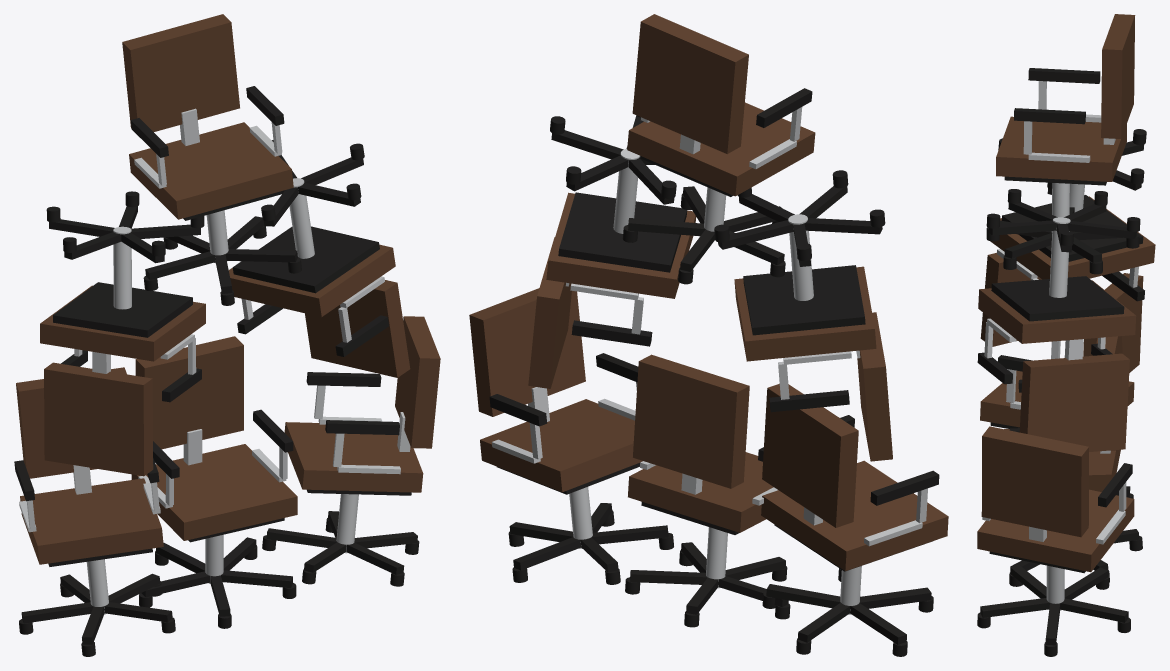
Rendered from SM_80s_ChairPile_A.glb.
3 renders of one model, left to right at view 1: azimuth 30°, elevation 25°; view 2: azimuth 150°, elevation 25°; view 3: azimuth 270°, elevation 25°, orthographic. The views are drawn at different scales.
Visible parts, largest first — view 1: SM_80s_ChairPile_A; view 2: SM_80s_ChairPile_A; view 3: SM_80s_ChairPile_A.
Boxes of the visible parts, box(x1,y1,x2,y2) form: SM_80s_ChairPile_A: box(14, 14, 440, 656); SM_80s_ChairPile_A: box(469, 14, 948, 656); SM_80s_ChairPile_A: box(977, 14, 1155, 656).
Size of the model in its own units: 2.42 by 3.04 by 0.923.
